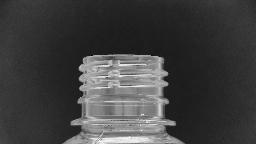No Cap: (66, 48, 180, 130)
